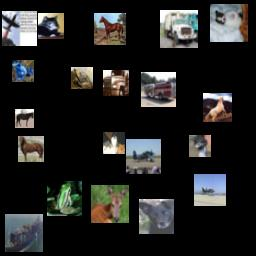airplane: (126, 139, 161, 174), (2, 11, 37, 46), (194, 174, 226, 206)
bird: (189, 135, 211, 157)
cat: (38, 13, 64, 39), (103, 132, 125, 154)
deer: (91, 185, 129, 223)
dog: (210, 4, 248, 42), (139, 199, 174, 234)
frog: (47, 181, 82, 216), (12, 60, 34, 82), (71, 67, 93, 89)
ship: (5, 214, 43, 252)
truck: (160, 10, 198, 48), (141, 72, 176, 107), (103, 70, 129, 96)
